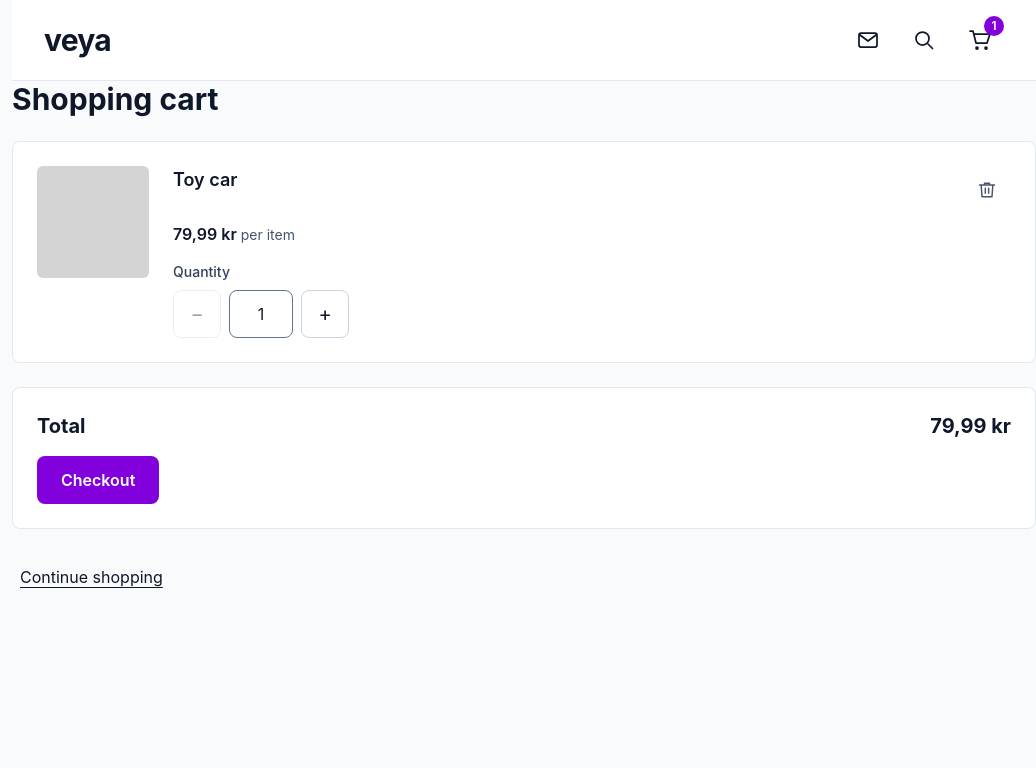
Test: clears the cart when checkout is completed
This screenshot has width=1036, height=768.
Click the button "Checkout" at (98, 480), box x1=37 y1=456 x2=159 y2=504
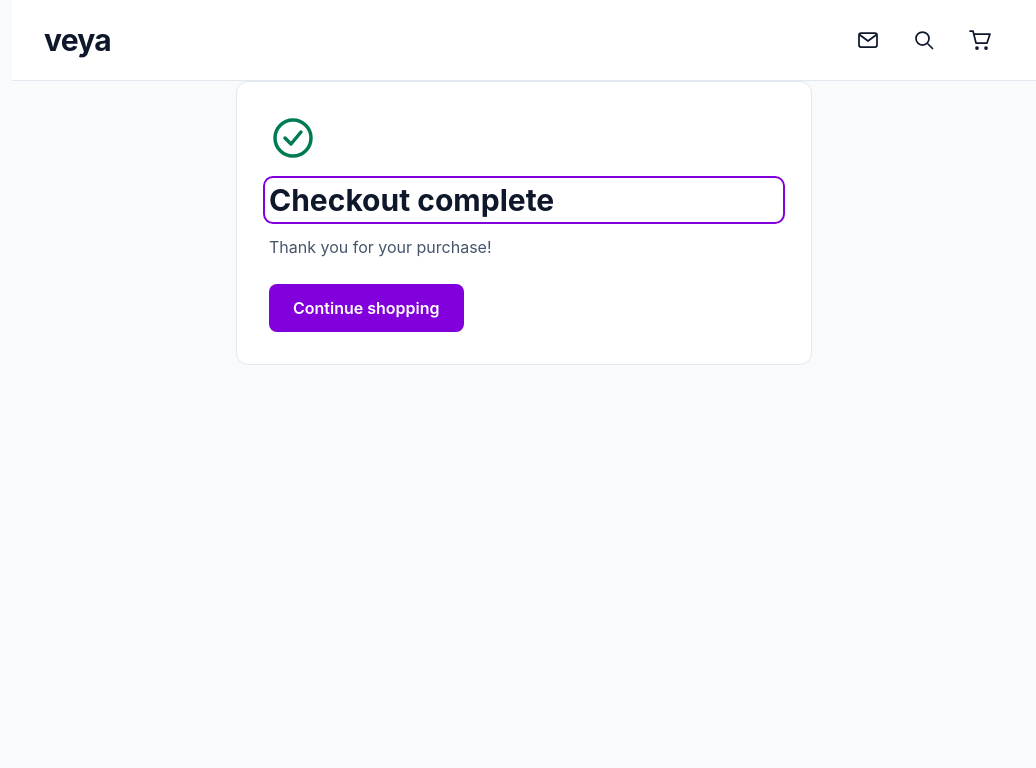
Now the heading "Checkout complete" is shown, box x1=269 y1=182 x2=554 y2=218
Click the link named "View cart, 0 items" at (980, 40), box x1=968 y1=28 x2=992 y2=52
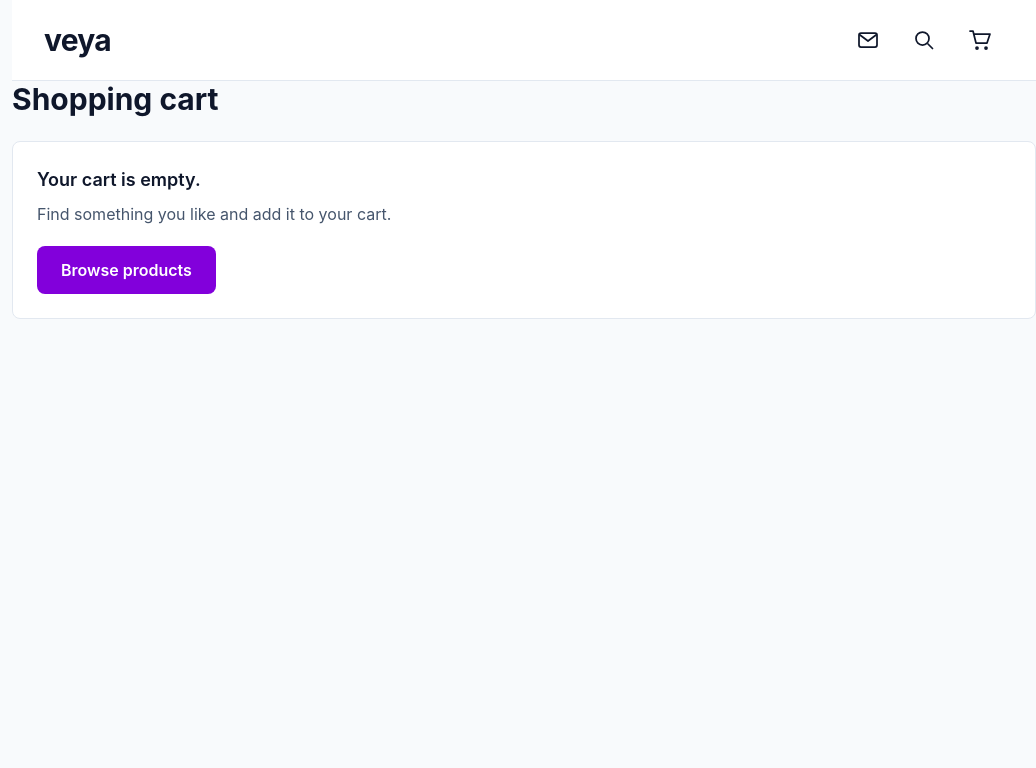
Now the text "Your cart is empty." is shown, box x1=37 y1=169 x2=201 y2=190
